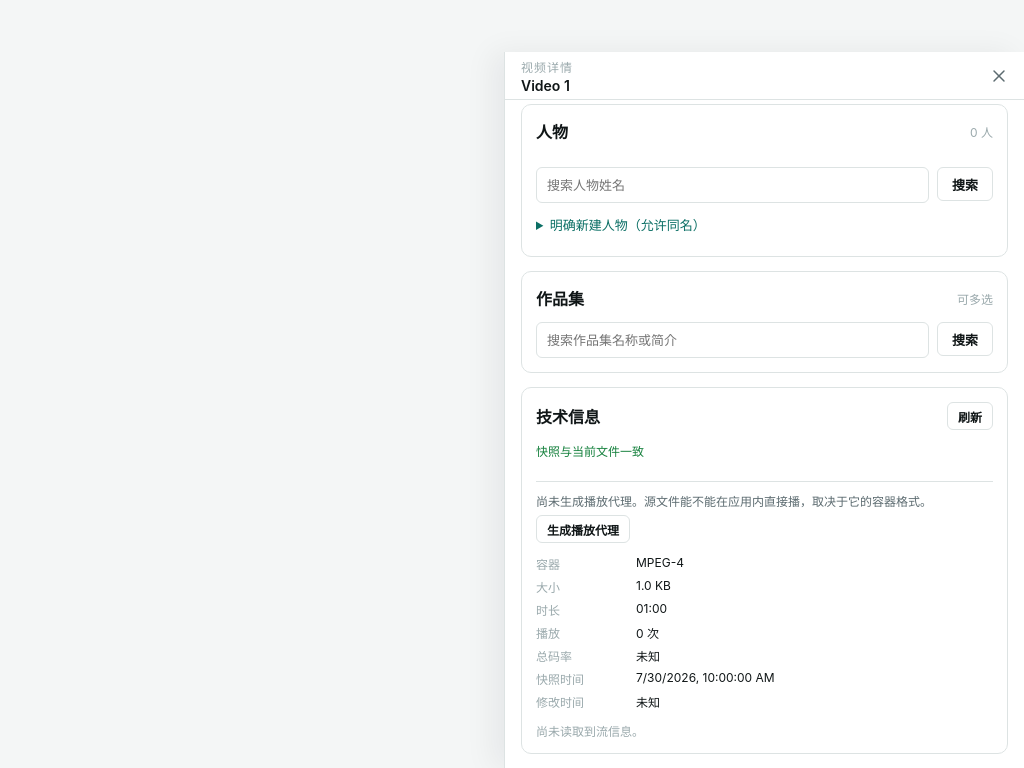
Test case: PreviewDrawer 作品集术语表（P-010） › 生成失败时把结果码翻成人话
(page scrolled)
Click the button with test id "preview-proxy-create".
click(583, 529)  # box [536,515,630,543]
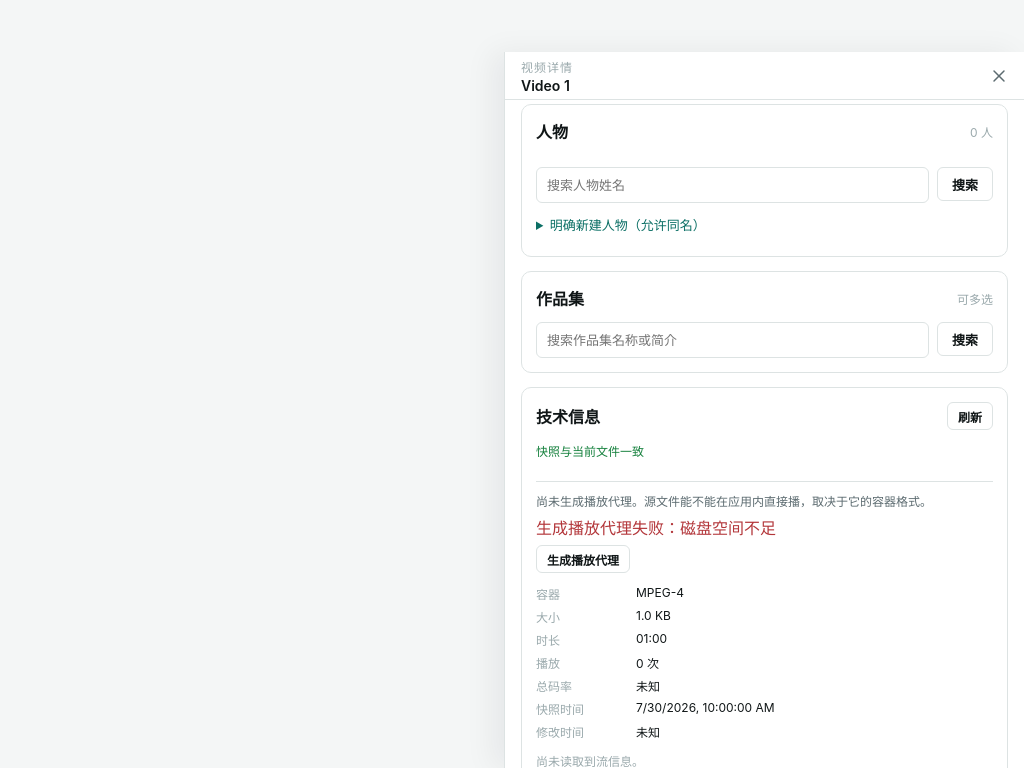
Expected: the text with test id "preview-proxy-error" shows "磁盘空间不足", [536,518,776,538]
